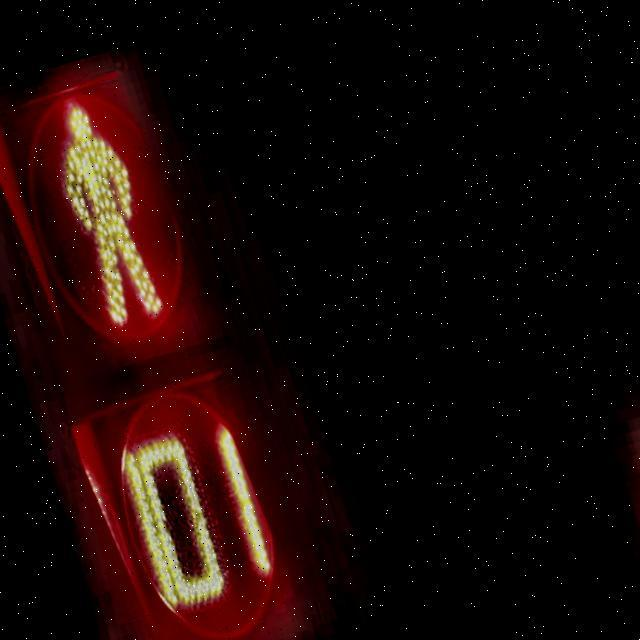red_light: (41, 92, 172, 330)
